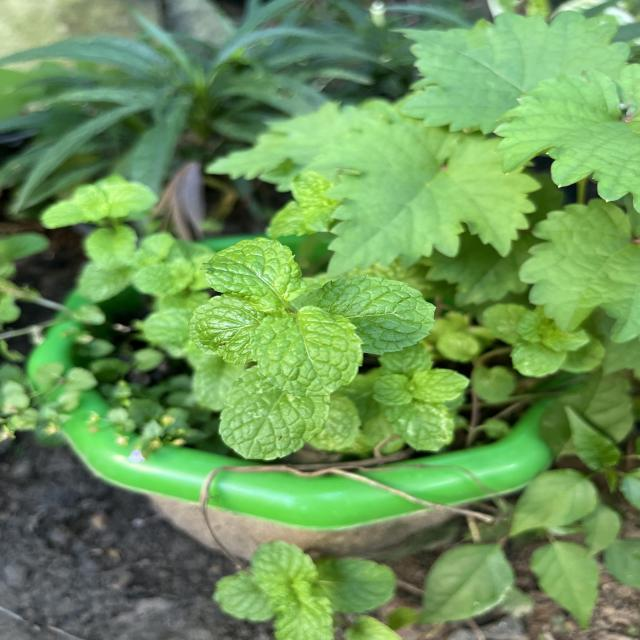Mentha spicata: (247, 305, 366, 400), (218, 365, 332, 463), (304, 274, 437, 356), (198, 236, 308, 308)
